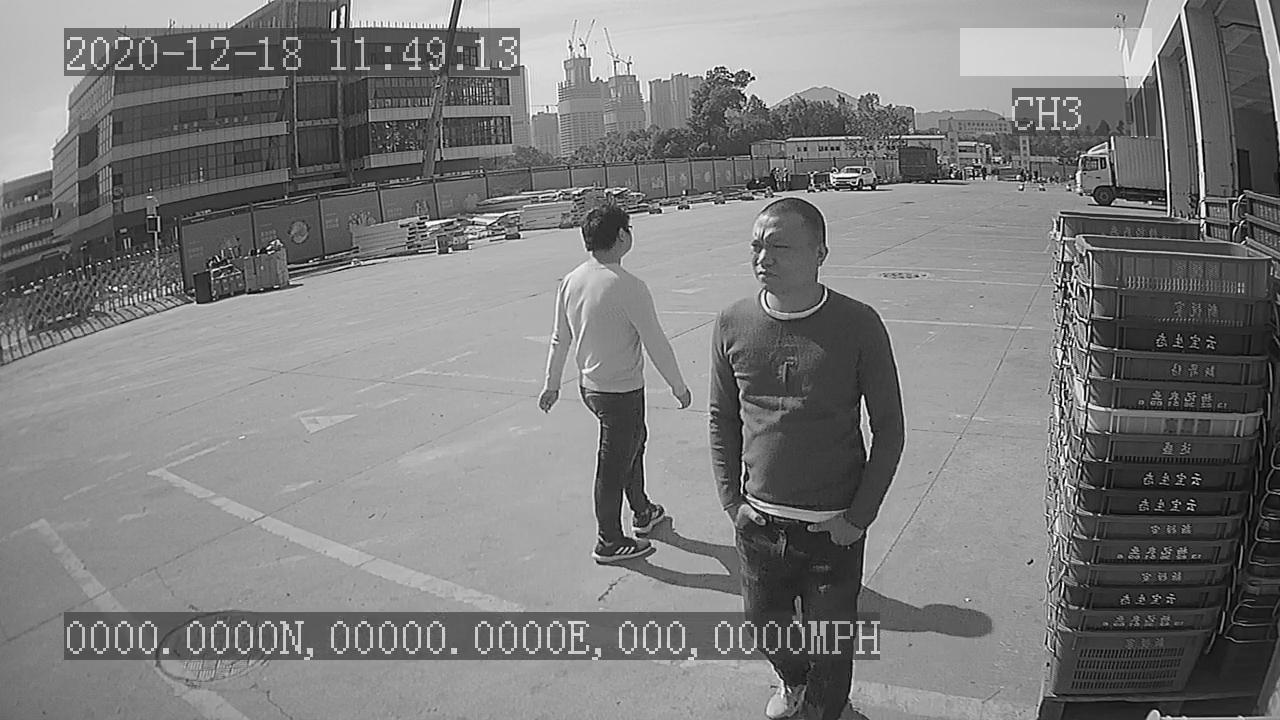person: (527, 201, 701, 569)
